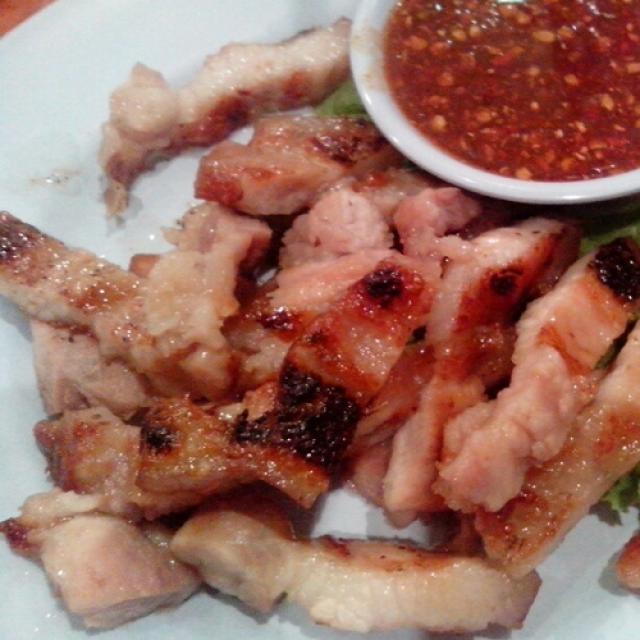猪肉菜式: (18, 32, 619, 623)
